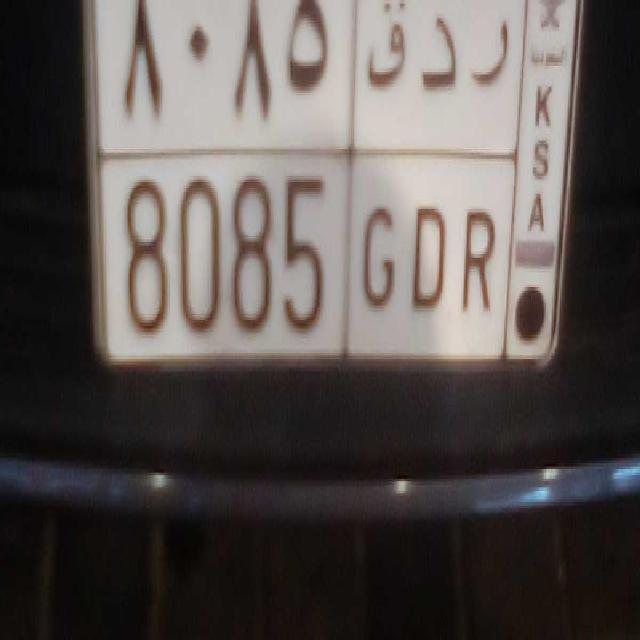license_plate: (108, 155, 505, 356)
